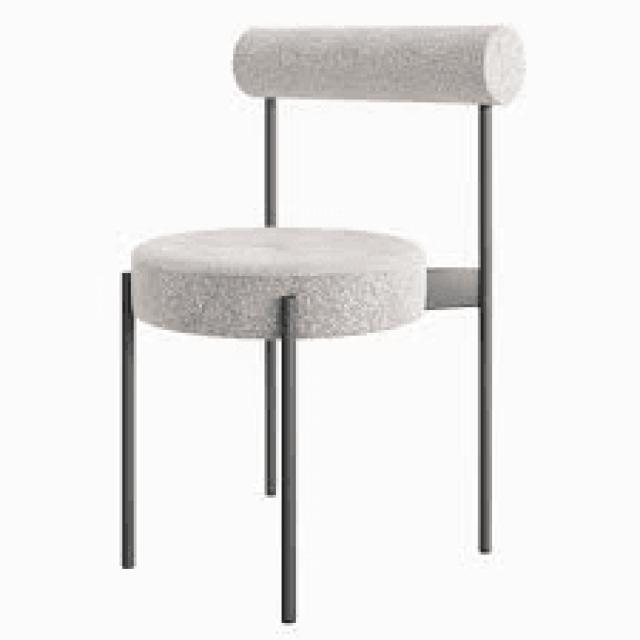chair: (113, 18, 532, 626), (130, 27, 522, 336)
